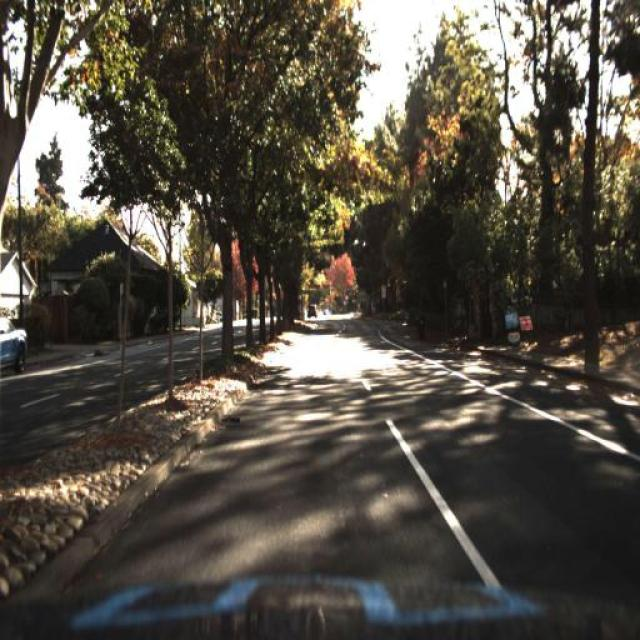car: (1, 309, 28, 377), (306, 296, 320, 322)
